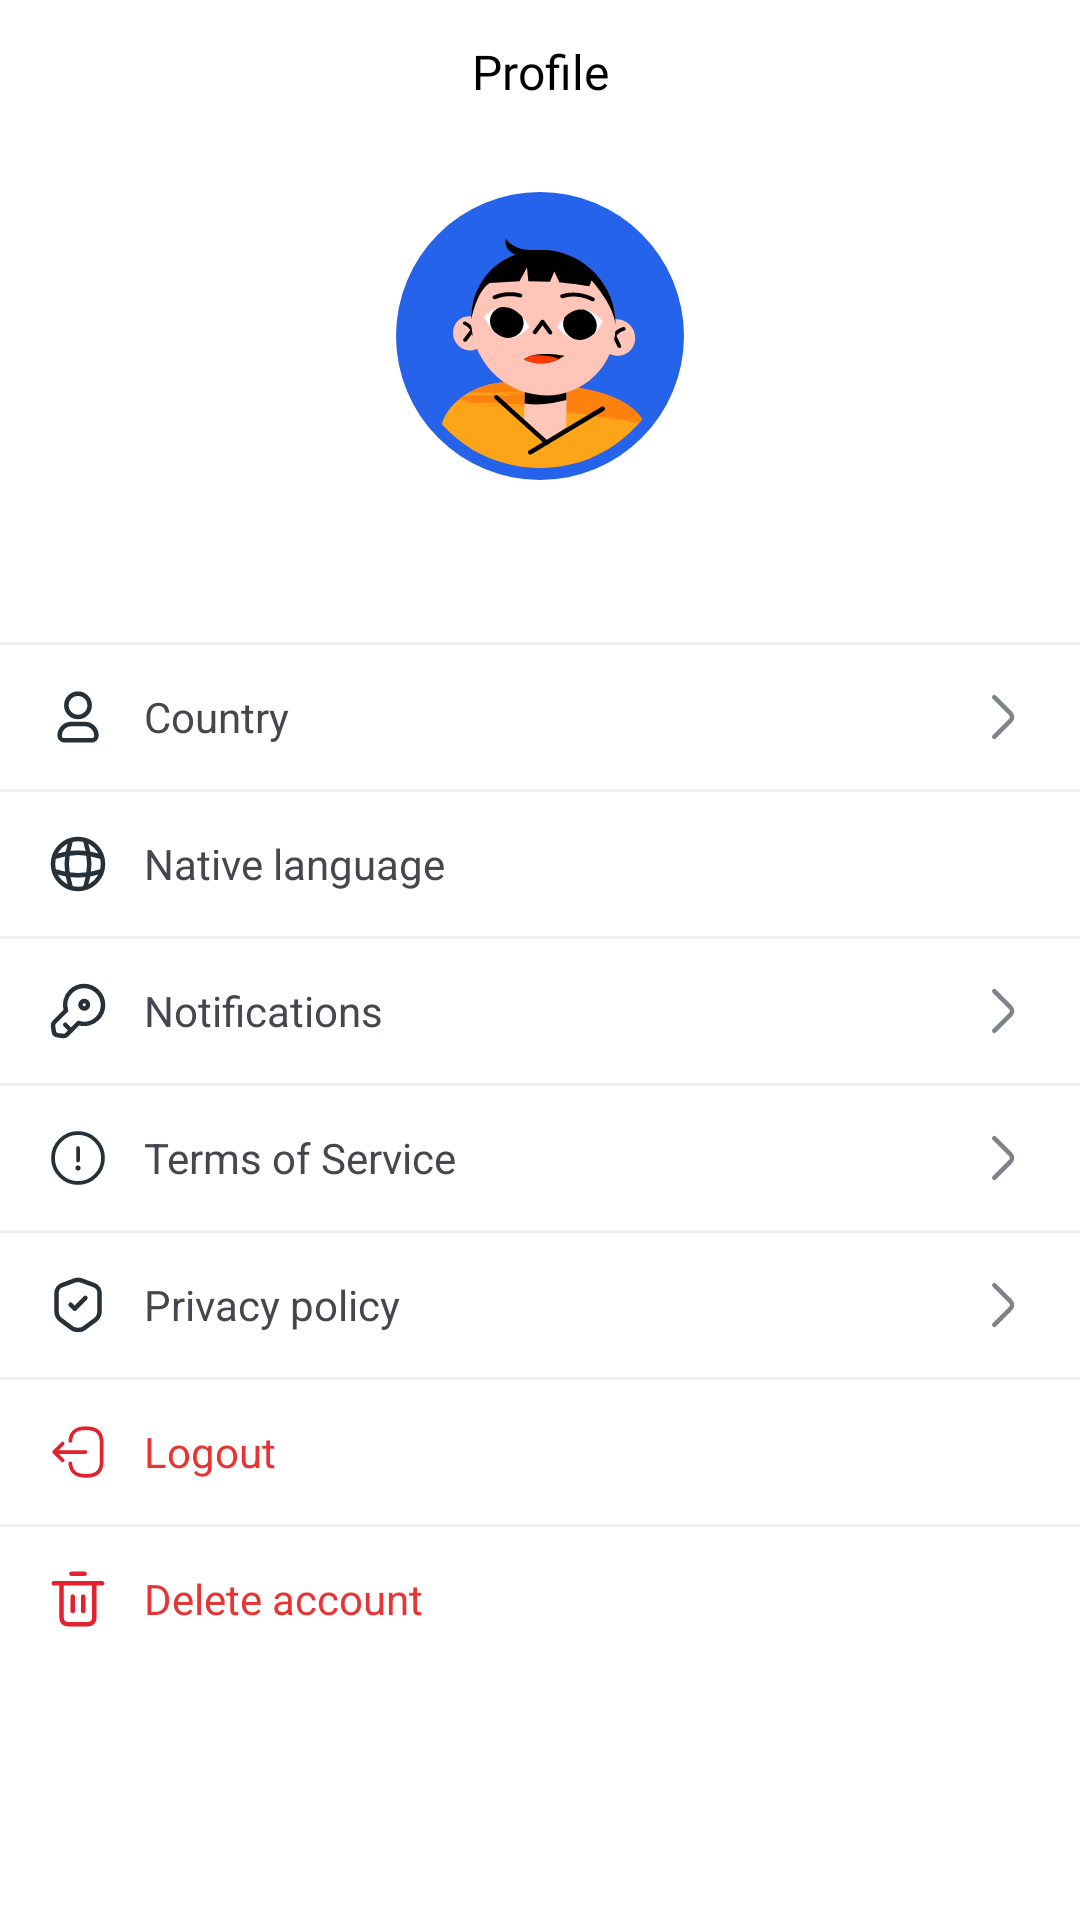

Named icons in this screenshot (1080px×1920px) and their bounding boxes, [x1,y1,x2,y2]:
arrright: [992,695,1015,739], [992,989,1015,1033], [992,1136,1015,1180], [992,1283,1015,1327]
key: [50,983,106,1039]
trash: [51,1571,105,1627]
user: [57,691,99,743]
